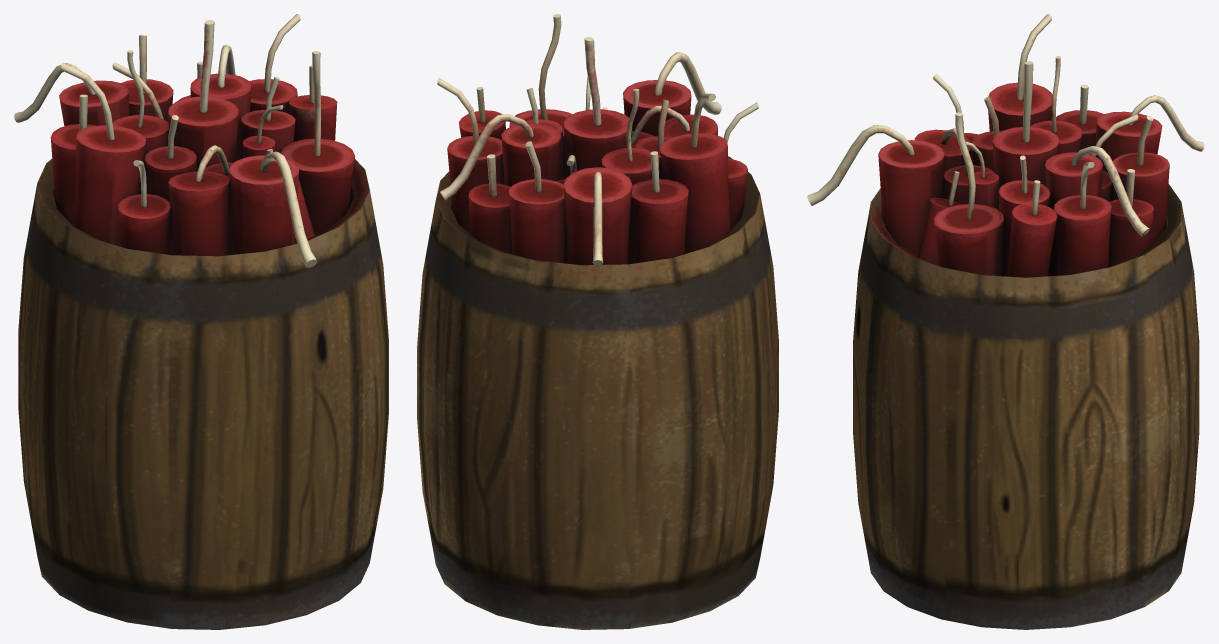
Rendered from Barrel_Explosive.fbx.
3 views of the same model, side by side, from view 1: azimuth 30°, elevation 25°; view 2: azimuth 150°, elevation 25°; view 3: azimuth 270°, elevation 25° (orthographic). The views are drawn at different scales.
Visible parts, largest first — view 1: RR_Barrel01_001, RR_Dynamite_012; view 2: RR_Barrel01_001, RR_Dynamite_012; view 3: RR_Barrel01_001, RR_Dynamite_012.
Part boxes in pixels (bbox=[...]): RR_Barrel01_001: bbox=[18, 158, 388, 629]; RR_Dynamite_012: bbox=[14, 14, 355, 267]; RR_Barrel01_001: bbox=[417, 156, 778, 629]; RR_Dynamite_012: bbox=[437, 14, 758, 266]; RR_Barrel01_001: bbox=[853, 183, 1199, 629]; RR_Dynamite_012: bbox=[807, 14, 1204, 277].
Bounding box in the file's own units: 70.87 × 113 × 80.53.
Materials: 2 (2 with a texture image).
